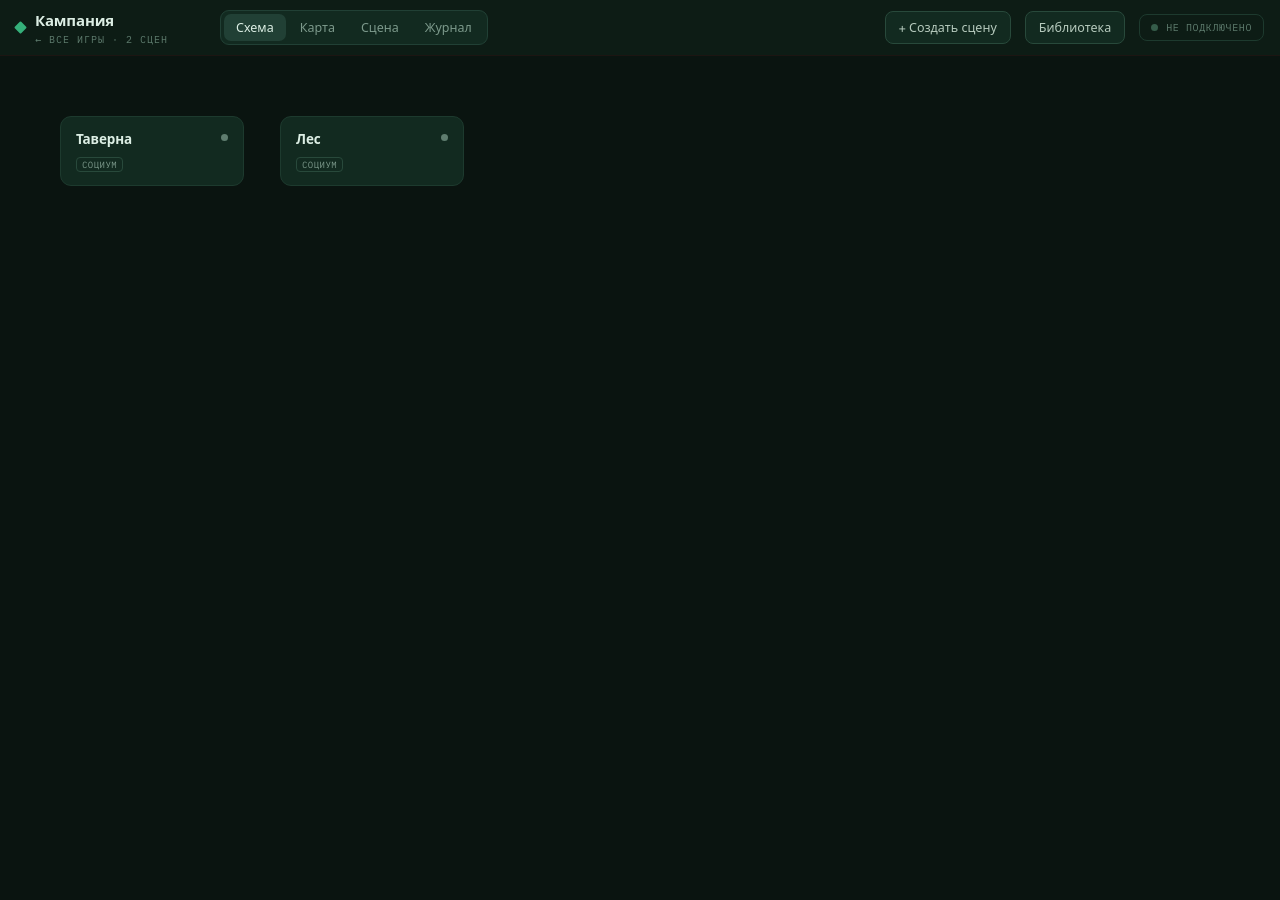
Test: MasterView › кнопка "Создать сцену" открывает модалку
What coordinates should you click on to do the following:
click the button with class "btn-scene"
I would click on:
 (948, 28)
Its box is left=885, top=11, right=1011, bottom=44.
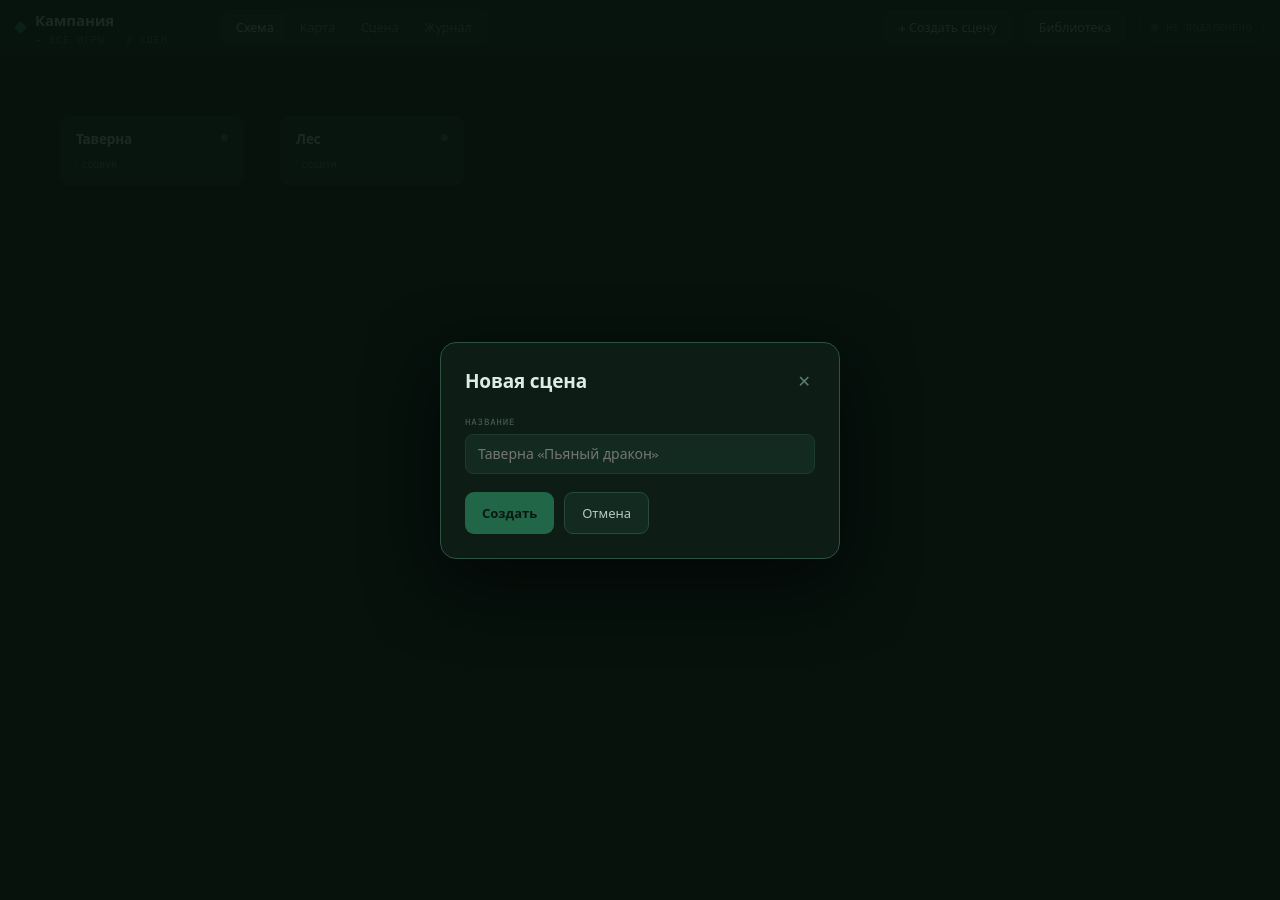
expect the element with class "modal" is shown: met, box left=440, top=342, right=840, bottom=558
